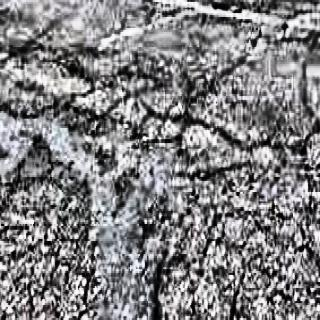alligator-crack: (141, 182, 320, 320), (2, 134, 99, 317), (141, 106, 320, 174), (1, 43, 138, 127), (139, 44, 214, 105)
crack: (217, 28, 266, 84), (270, 22, 318, 55)
